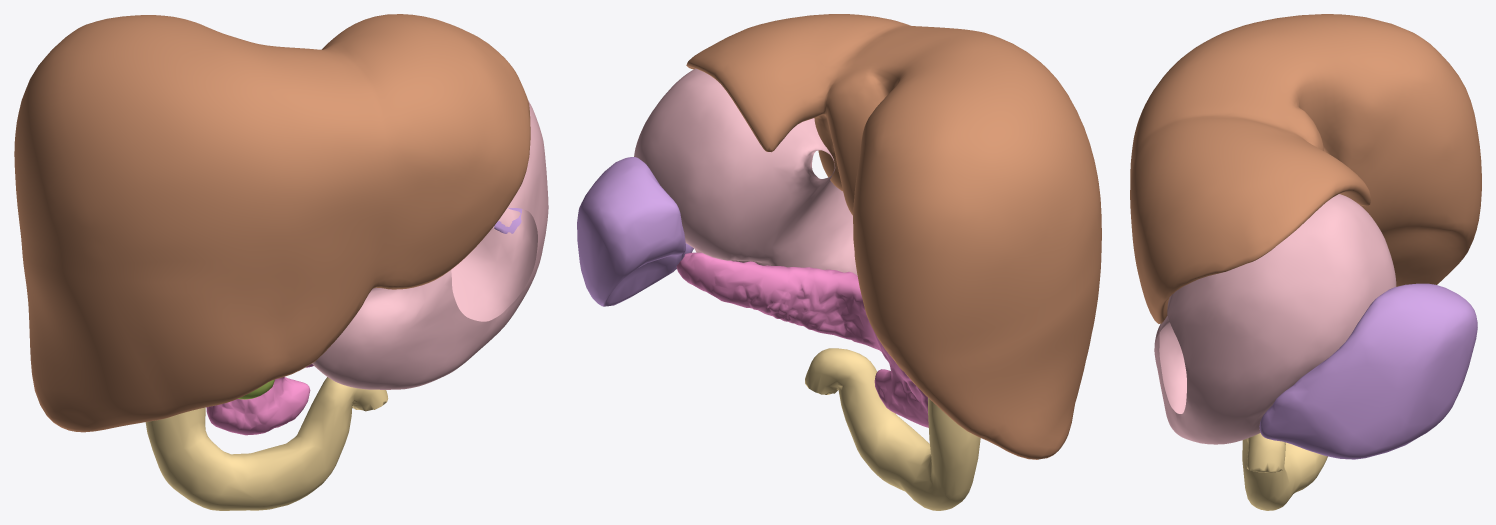
Rendered from gluco.glb.
The picture shows the model from 3 angles, left to right: view 1: azimuth 30°, elevation 25°; view 2: azimuth 150°, elevation 25°; view 3: azimuth 270°, elevation 25°; orthographic projection. The views are drawn at different scales.
Visible parts, largest first — view 1: Liver.001, Stomach.001, Duodenum.001, Pancreas.001; view 2: Liver.001, Stomach.001, Duodenum.001, Pancreas.001, Spleen.001; view 3: Liver.001, Stomach.001, Spleen.001, Duodenum.001.
Boxes of the visible parts, left/top/right/bottom form: Liver.001: left=14, top=14, right=530, bottom=432; Stomach.001: left=312, top=100, right=548, bottom=389; Duodenum.001: left=145, top=377, right=388, bottom=510; Pancreas.001: left=206, top=364, right=313, bottom=435; Liver.001: left=686, top=14, right=1101, bottom=459; Stomach.001: left=634, top=68, right=857, bottom=275; Duodenum.001: left=805, top=348, right=980, bottom=510; Pancreas.001: left=676, top=252, right=928, bottom=427; Spleen.001: left=577, top=157, right=693, bottom=306; Liver.001: left=1130, top=14, right=1481, bottom=323; Stomach.001: left=1154, top=194, right=1396, bottom=444; Spleen.001: left=1259, top=283, right=1477, bottom=459; Duodenum.001: left=1242, top=433, right=1327, bottom=510.
Size of the model in its own units: 2.6 by 2.42 by 1.74.
